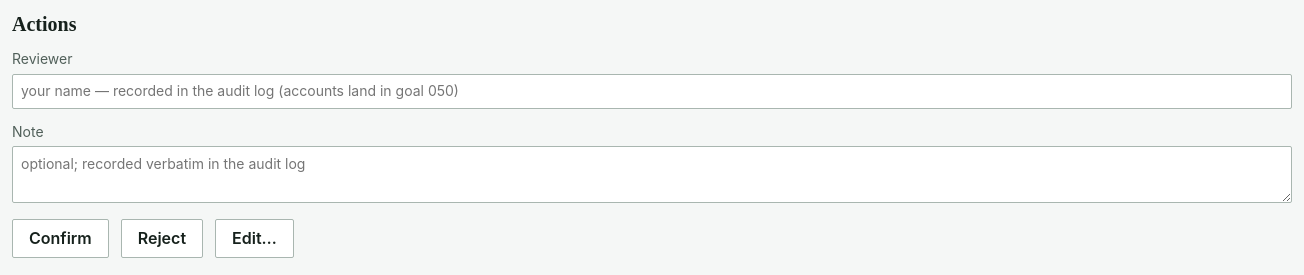
ResolvePanel verdicts (one door: the resolve action) › confirm sends the confirm verdict with reviewer and note
The image size is (1304, 275).
Replace the text in the field labelled "Reviewer" with "jane" at (652, 91), box [12,74,1292,109]
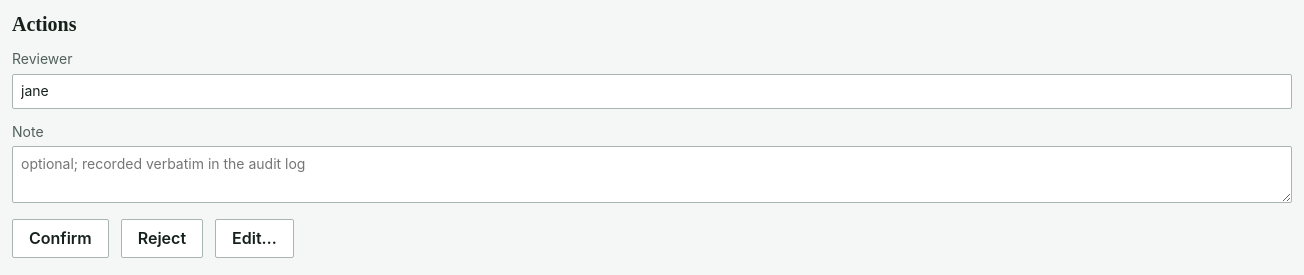
Type "matches the PDF" into the text box labelled "Note" at (652, 175), box [12,146,1292,203]
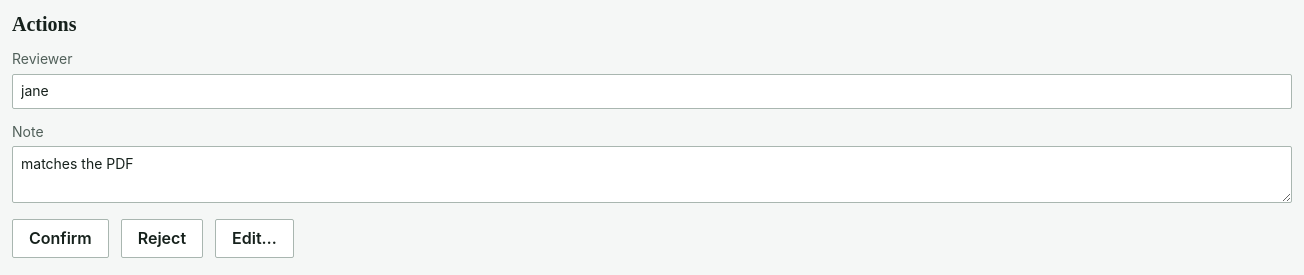
Click the button "Confirm" at (60, 239), box [12,219,109,258]
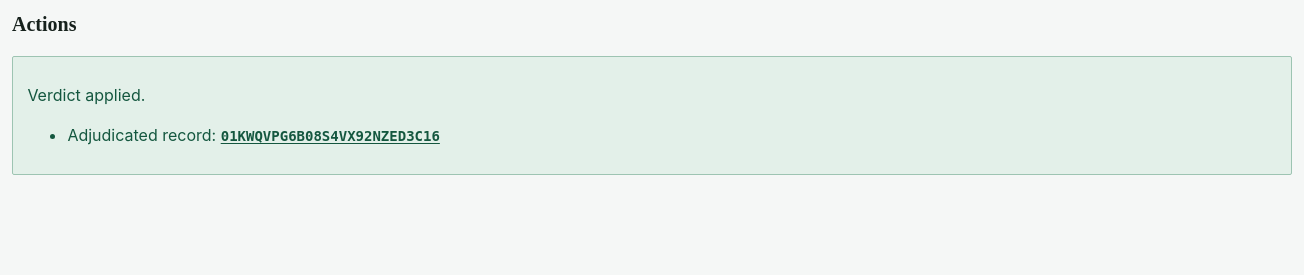
Check: the element with test id "resolve-outcome" shows "Verdict applied.", box [27,85,145,105]
